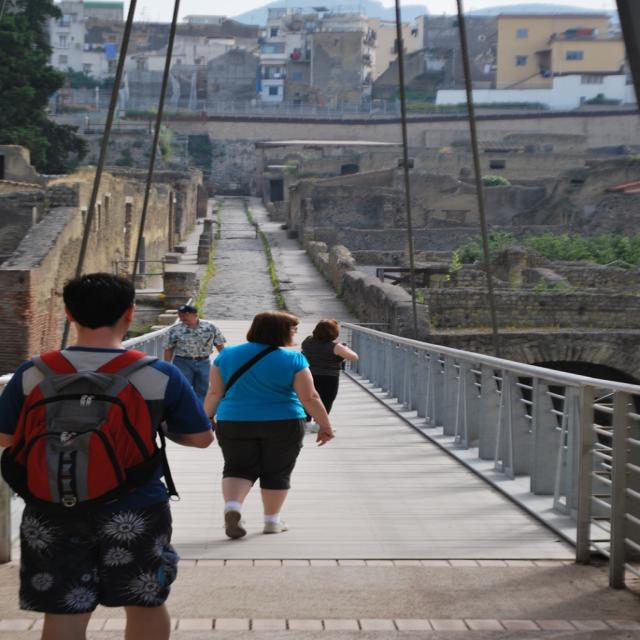backpack: (5, 349, 162, 513)
